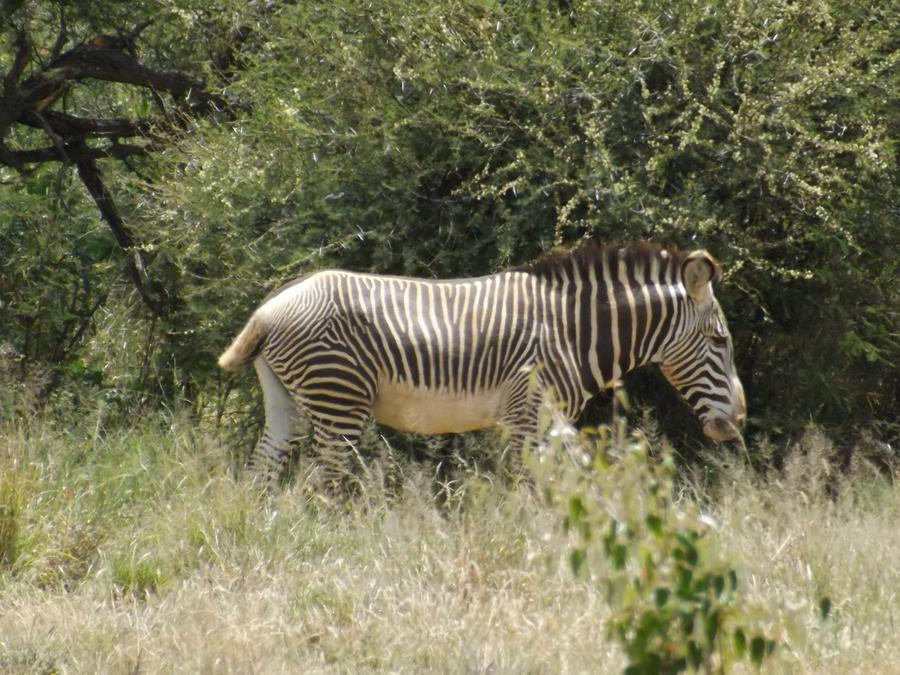zebra_grevys: (234, 254, 573, 415)
